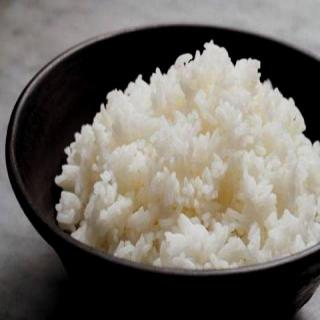Nasi: (52, 38, 320, 272)
